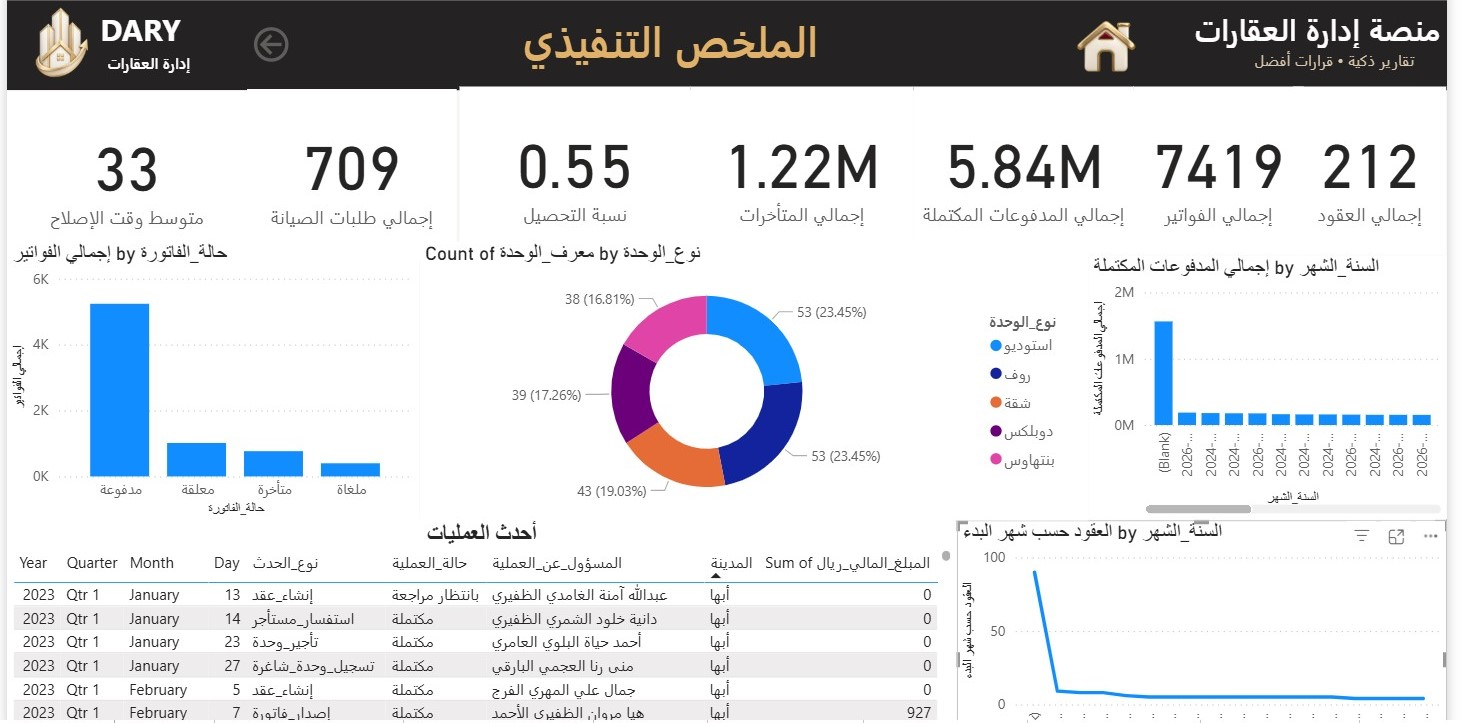

Layout of this report page (visuals, bound fields, positions):
{"tool":"powerbi","page":{"name":"الملخص التنفيذي","canvas":[1280,720],"ordinal":4},"visuals":[{"type":"shape","box":[0,10,2000,80.2],"z":0},{"type":"textbox","box":[1007.9,12.4,272.1,71.4],"z":1000},{"type":"textbox","box":[1072.3,49.4,183.8,49.4],"z":2000},{"type":"textbox","box":[78.3,11.9,187.2,52.8],"z":3000},{"type":"textbox","box":[76.6,37.4,188.9,52.8],"z":4000},{"type":"image","box":[0,10.2,95.3,76.6],"z":5000},{"type":"actionButton","box":[214.5,28.9,100.4,40.9],"z":6000},{"type":"textbox","box":[432.3,15.3,314.9,71.5],"z":7000},{"type":"card","fields":{"Values":["Fact_Maintenance.متوسط وقت الإصلاح"]},"box":[0,89.5,214,148.8],"z":8000},{"type":"card","fields":{"Values":["Fact_Invoice.إجمالي الفواتير"]},"box":[1000.9,86.8,151.5,149.8],"z":9000},{"type":"card","fields":{"Values":["Fact_Maintenance.إجمالي طلبات الصيانة"]},"box":[213.8,88.8,186.2,150],"z":10000},{"type":"card","fields":{"Values":["Fact_Invoice.نسبة التحصيل"]},"box":[401.7,86.8,206,149.8],"z":11000},{"type":"card","fields":{"Values":["Fact_Invoice.إجمالي المتأخرات"]},"box":[607.7,86.8,197.4,149.8],"z":12000},{"type":"card","fields":{"Values":["Fact_Payment.إجمالي المدفوعات المكتملة"]},"box":[805.1,86.8,195.7,149.8],"z":13000},{"type":"card","fields":{"Values":["Fact_Contract.إجمالي العقود"]},"box":[1143.8,86.8,136.2,149.8],"z":14000},{"type":"clusteredColumnChart","fields":{"Category":["Fact_Invoice.حالة_الفاتورة"],"Y":["Fact_Invoice.إجمالي الفواتير"]},"box":[0,224.4,366.3,248.8],"z":15000},{"type":"lineChart","fields":{"Category":["Dim_Date.السنة_الشهر"],"Y":["Fact_Contract.العقود حسب شهر البدء"]},"box":[844.2,472.1,436,247.7],"z":16000},{"type":"lineClusteredColumnComboChart","fields":{"Category":["Dim_Date.السنة_الشهر"],"Y":["Fact_Payment.إجمالي المدفوعات المكتملة"]},"box":[961.6,237.2,318.6,234.9],"z":17000},{"type":"donutChart","fields":{"Category":["Dim_Unit.نوع_الوحدة"],"Y":["CountNonNull(Dim_Unit.معرف_الوحدة)"]},"box":[366.3,224.4,594.2,247.7],"z":18000},{"type":"tableEx","title":"أحدث العمليات","fields":{"Values":["Fact_Operations.تاريخ_الحدث.Variation.Date Hierarchy.Year","Fact_Operations.تاريخ_الحدث.Variation.Date Hierarchy.Quarter","Fact_Operations.تاريخ_الحدث.Variation.Date Hierarchy.Month","Fact_Operations.تاريخ_الحدث.Variation.Date Hierarchy.Day","Fact_Operations.نوع_الحدث","Fact_Operations.حالة_العملية","Fact_Operations.المسؤول_عن_العملية","Fact_Operations.المدينة","Sum(Fact_Operations.المبلغ_المالي_ريال)"]},"box":[0,472.1,844.2,247.7],"z":19000},{"type":"image","box":[926.2,7.5,101.2,86.2],"z":20000}]}

Visuals, with their boxes on the page's 1280x720 design canvas (x1, y1, x2, y2). These are canvas units, not pixel positions in the 1469x723 screenshot, which may show the page scaled, cropped or inside an application window:
shape: bbox(0, 10, 2000, 90)
textbox: bbox(1008, 12, 1280, 84)
textbox: bbox(1072, 49, 1256, 99)
textbox: bbox(78, 12, 266, 65)
textbox: bbox(77, 37, 266, 90)
image: bbox(0, 10, 95, 87)
actionButton: bbox(214, 29, 315, 70)
textbox: bbox(432, 15, 747, 87)
card - Fact_Maintenance.متوسط وقت الإصلاح: bbox(0, 90, 214, 238)
card - Fact_Invoice.إجمالي الفواتير: bbox(1001, 87, 1152, 237)
card - Fact_Maintenance.إجمالي طلبات الصيانة: bbox(214, 89, 400, 239)
card - Fact_Invoice.نسبة التحصيل: bbox(402, 87, 608, 237)
card - Fact_Invoice.إجمالي المتأخرات: bbox(608, 87, 805, 237)
card - Fact_Payment.إجمالي المدفوعات المكتملة: bbox(805, 87, 1001, 237)
card - Fact_Contract.إجمالي العقود: bbox(1144, 87, 1280, 237)
clusteredColumnChart - Fact_Invoice.حالة_الفاتورة x Fact_Invoice.إجمالي الفواتير: bbox(0, 224, 366, 473)
lineChart - Dim_Date.السنة_الشهر x Fact_Contract.العقود حسب شهر البدء: bbox(844, 472, 1280, 720)
lineClusteredColumnComboChart - Dim_Date.السنة_الشهر x Fact_Payment.إجمالي المدفوعات المكتملة: bbox(962, 237, 1280, 472)
donutChart - Dim_Unit.نوع_الوحدة x CountNonNull(Dim_Unit.معرف_الوحدة): bbox(366, 224, 960, 472)
"أحدث العمليات" tableEx: bbox(0, 472, 844, 720)
image: bbox(926, 8, 1027, 94)
